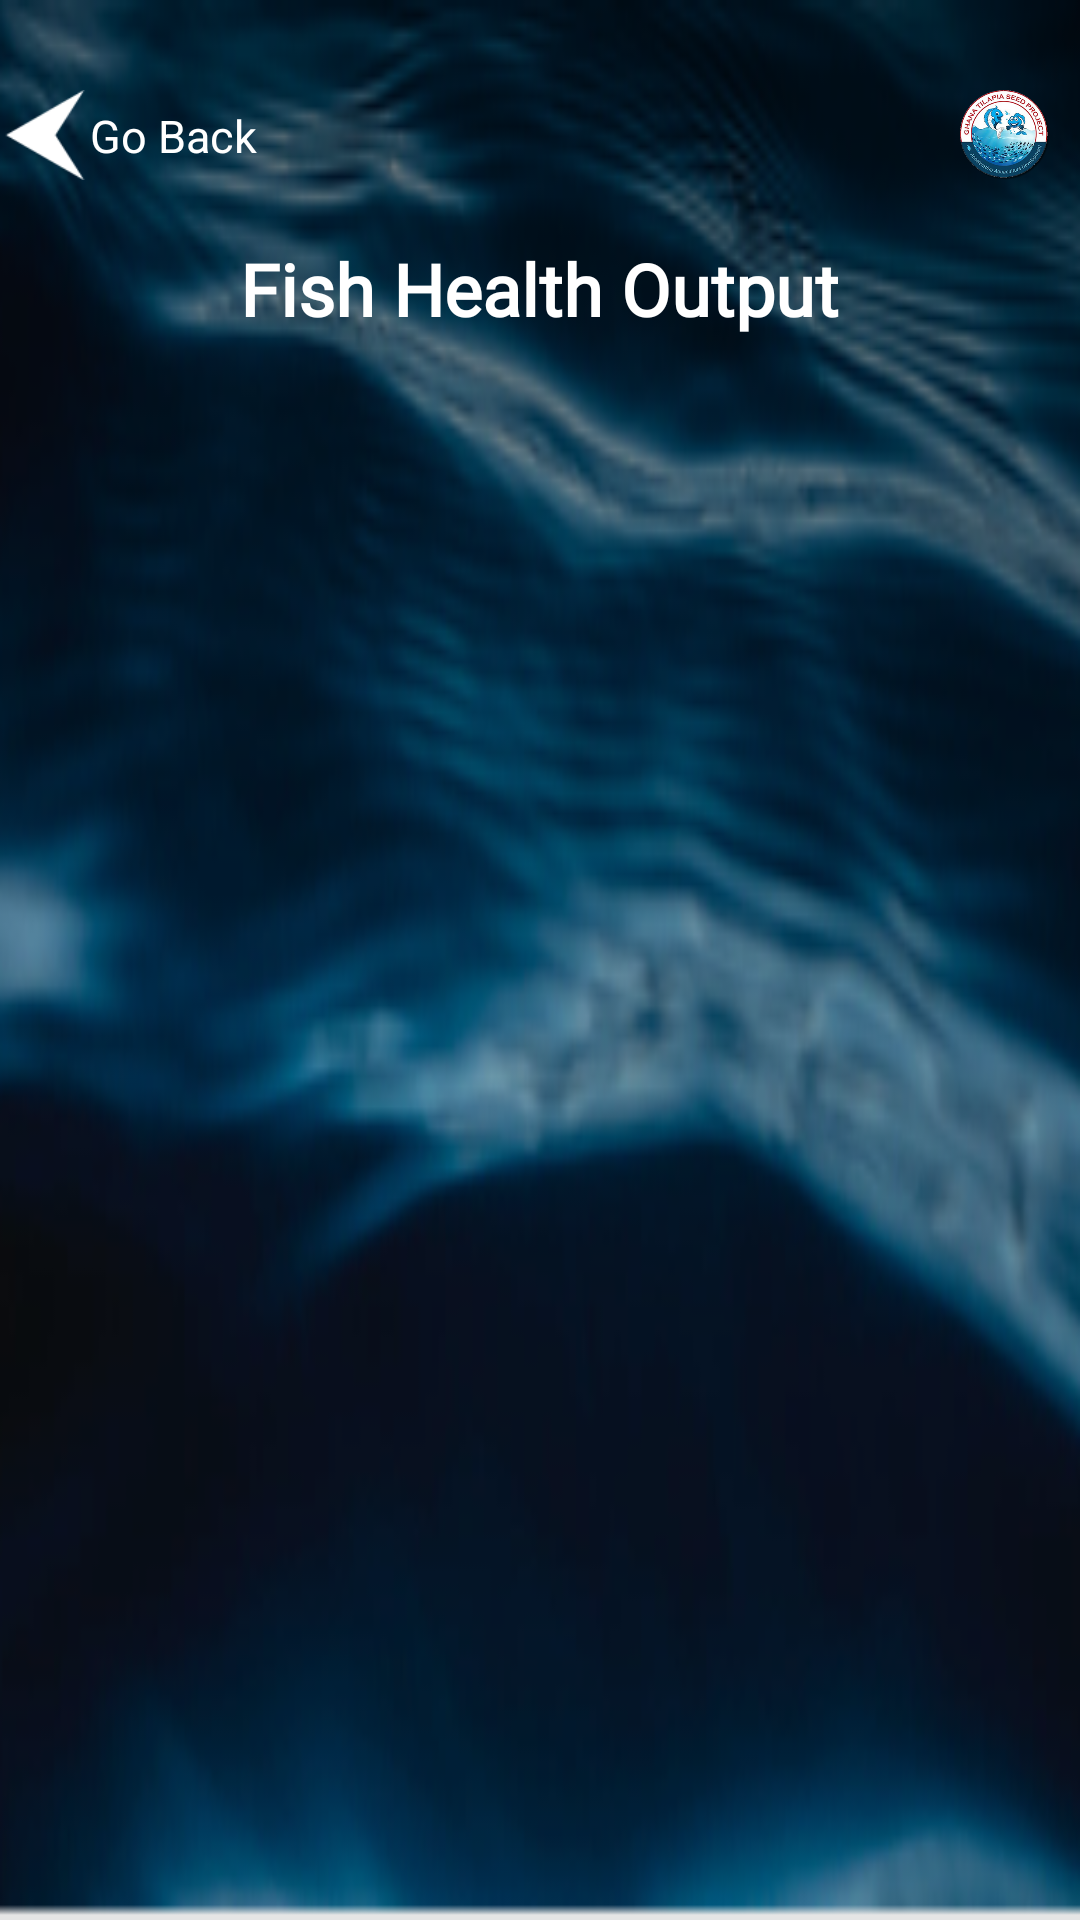

Named icons in this screenshot (1080px x 1920px) and their bounding boxes, (x1, y1, x2, y2):
arrowwhite: (0, 90, 90, 180)
